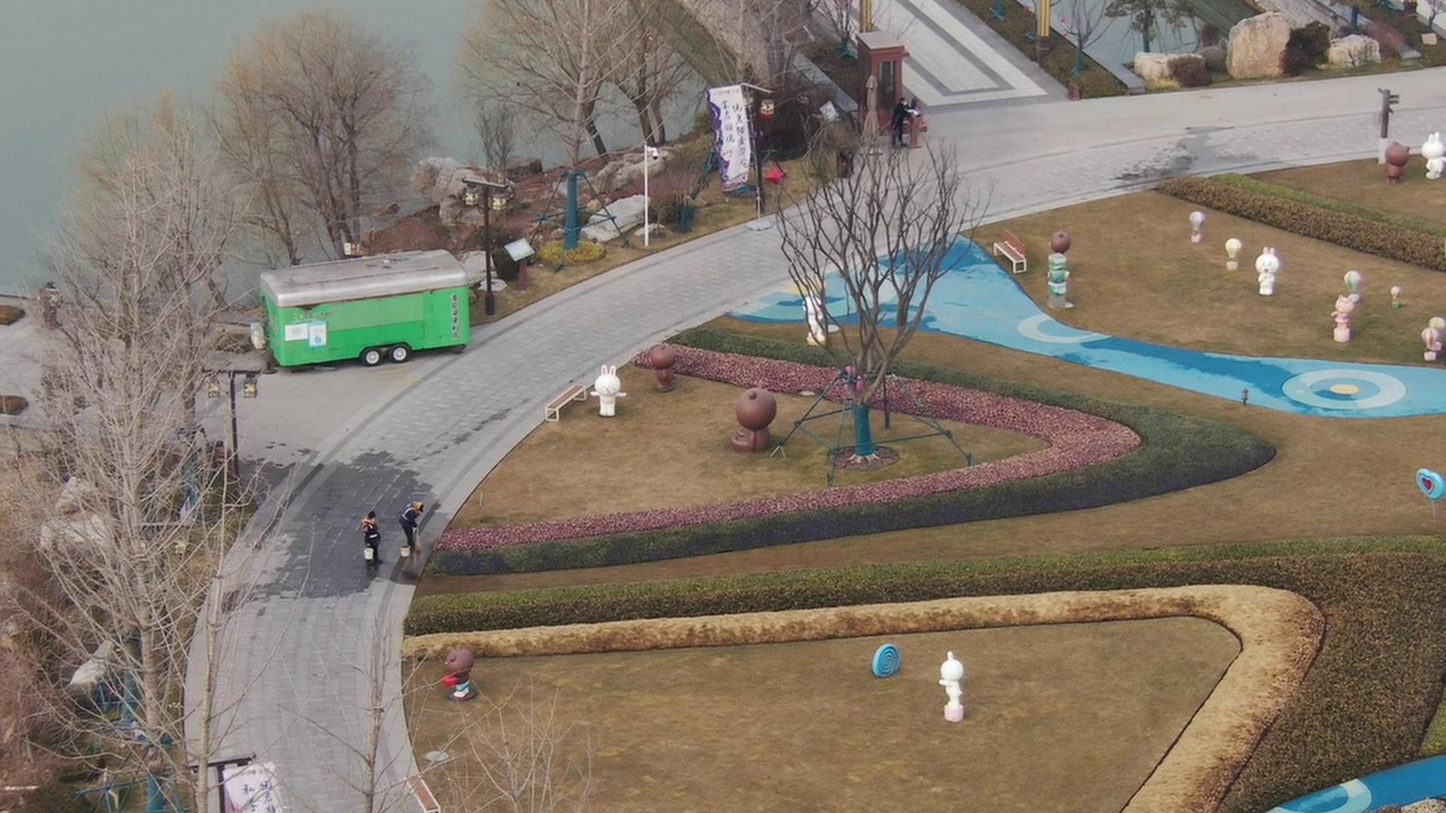human: (394, 495, 423, 554), (357, 498, 381, 563), (892, 92, 912, 151)
